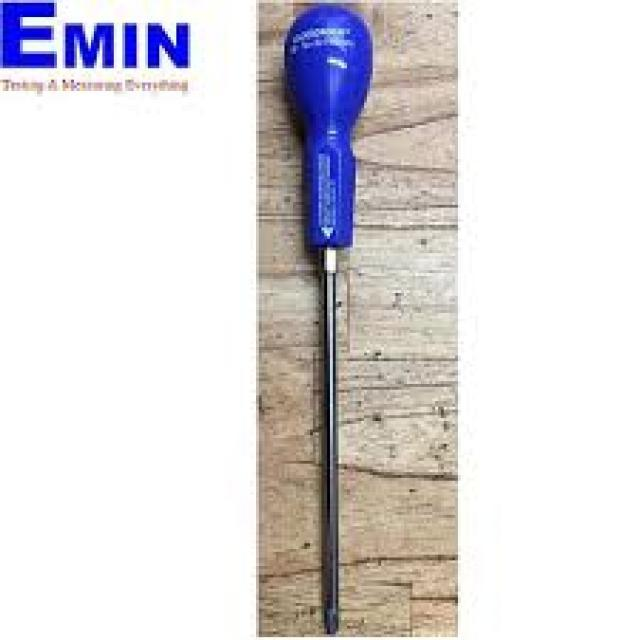screwdriver: (283, 1, 380, 638)
